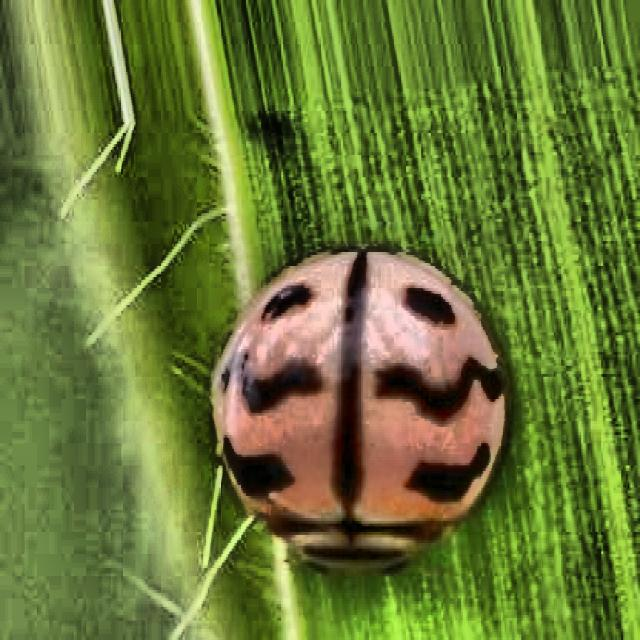Asian-Lady-beetle: (177, 192, 537, 638)
